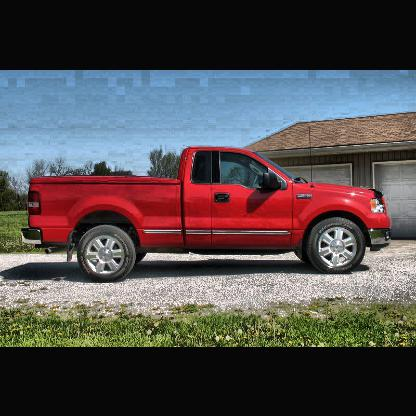Ford F-150 Regular Cab 2007: (23, 146, 392, 284)
